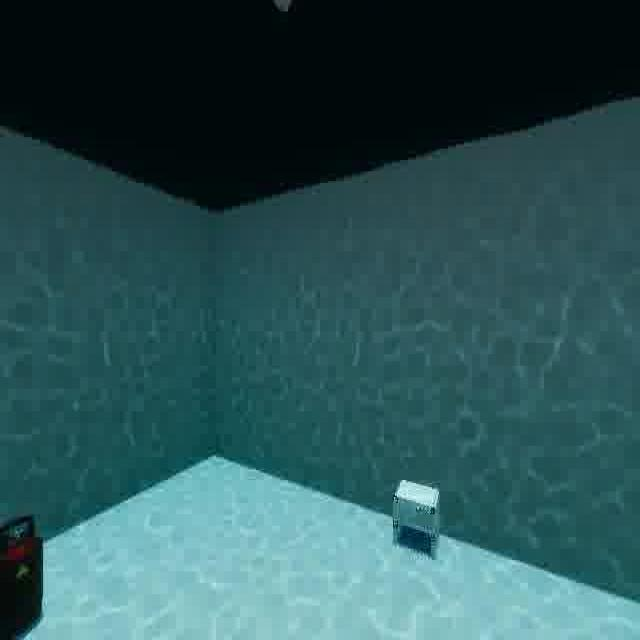Cylinder: (0, 491, 58, 640)
Docking Station: (390, 470, 449, 565)
